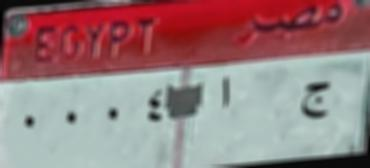0: (96, 101, 125, 127), (16, 109, 45, 134), (60, 106, 86, 132)
4: (144, 82, 168, 134)
alif: (212, 74, 242, 114)
jeem: (294, 75, 334, 129)
